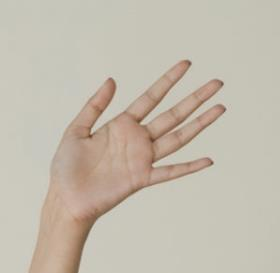down: (51, 60, 229, 214)
